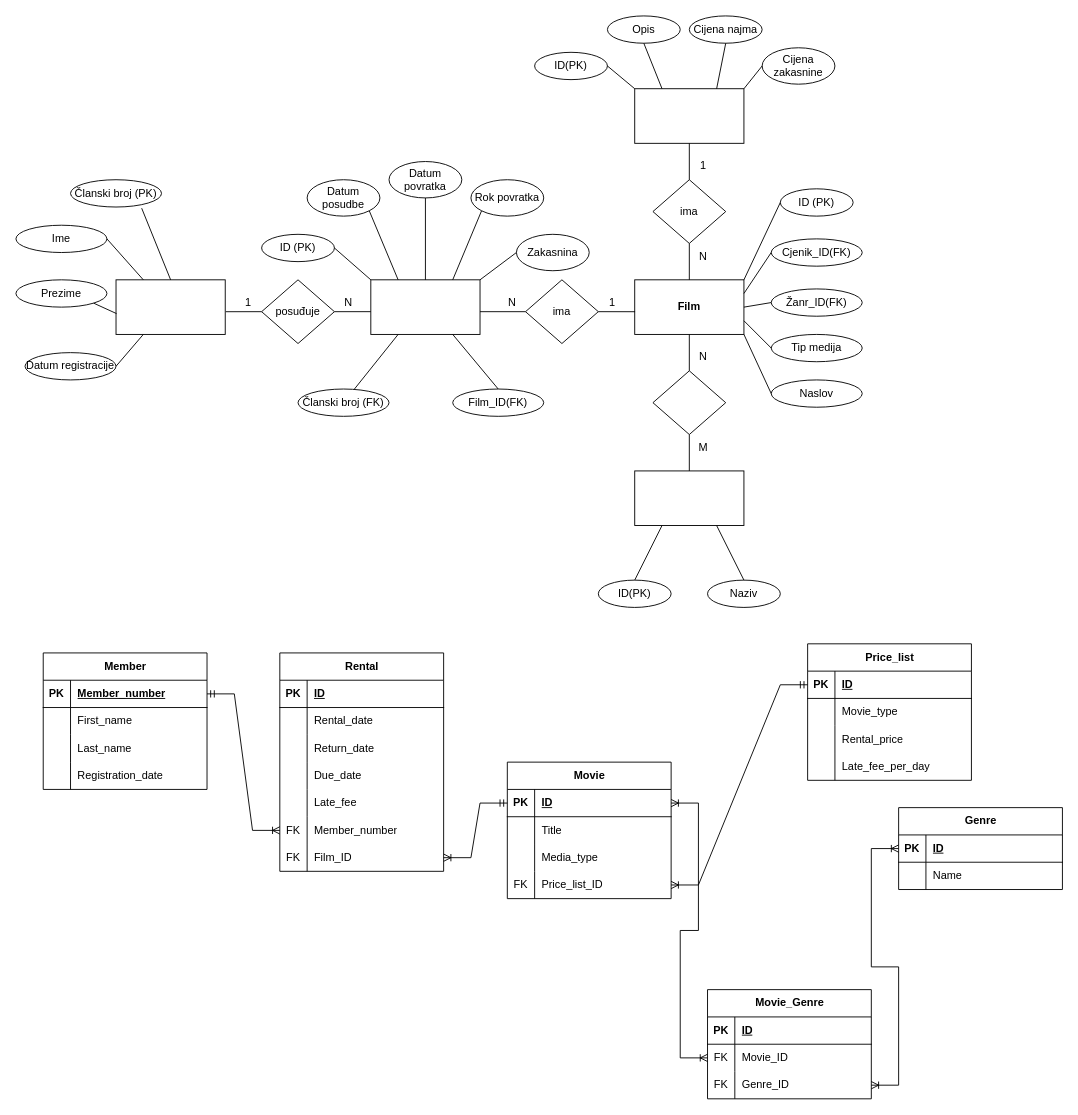
The diagram is 1078 pixels wide and 1115 high, and some of its shapes have lost their labels. Each missing label, with the centre of its shape:
"Cjenik" belongs at point 689,115.
"je" belongs at point 689,402.
"Posudba" belongs at point 425,306.
"Član" belongs at point 170,306.
"Žanr" belongs at point 689,498.
